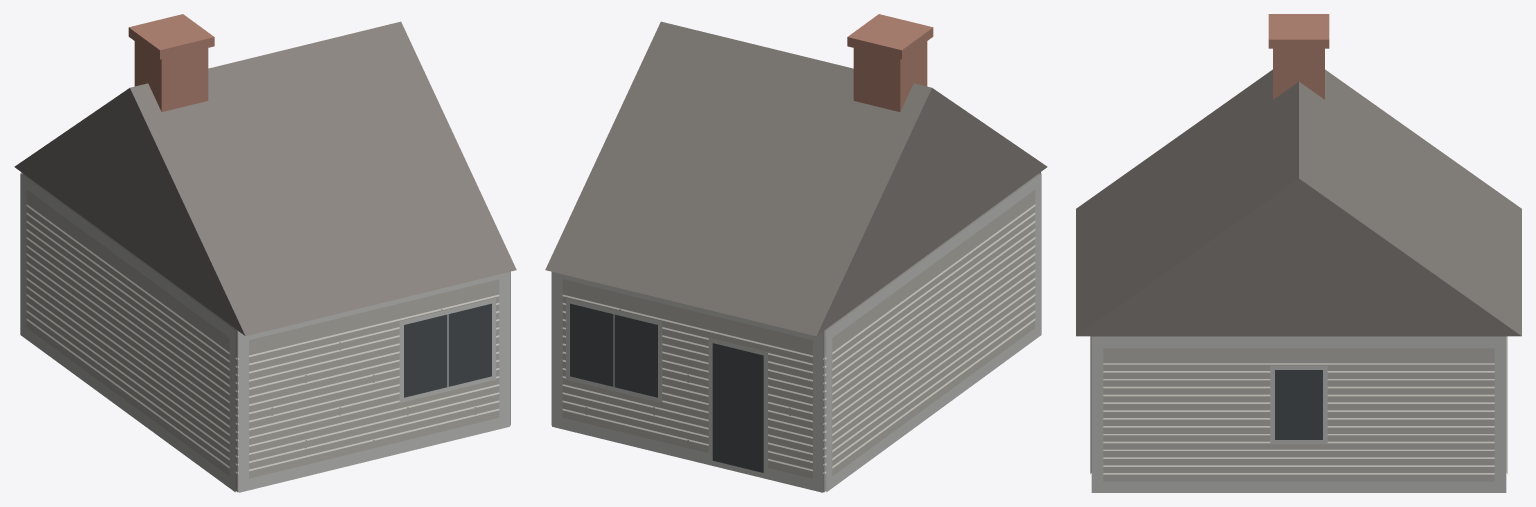
The model's file is recon_1835_west_002__inferred_1835.glb.
The picture shows the model from 3 angles, left to right: view 1: azimuth 30°, elevation 25°; view 2: azimuth 150°, elevation 25°; view 3: azimuth 270°, elevation 25°; orthographic projection. The views are drawn at different scales.
Visible parts, largest first — view 1: recon_1835_west_002__inferred_1835; view 2: recon_1835_west_002__inferred_1835; view 3: recon_1835_west_002__inferred_1835.
Boxes of the visible parts, x1,y1,x2,y2 form: recon_1835_west_002__inferred_1835: (14,14,516,492); recon_1835_west_002__inferred_1835: (545,14,1047,492); recon_1835_west_002__inferred_1835: (1076,14,1521,492).
Bounding box in the file's own units: 4.96 × 6.37 × 7.21.
